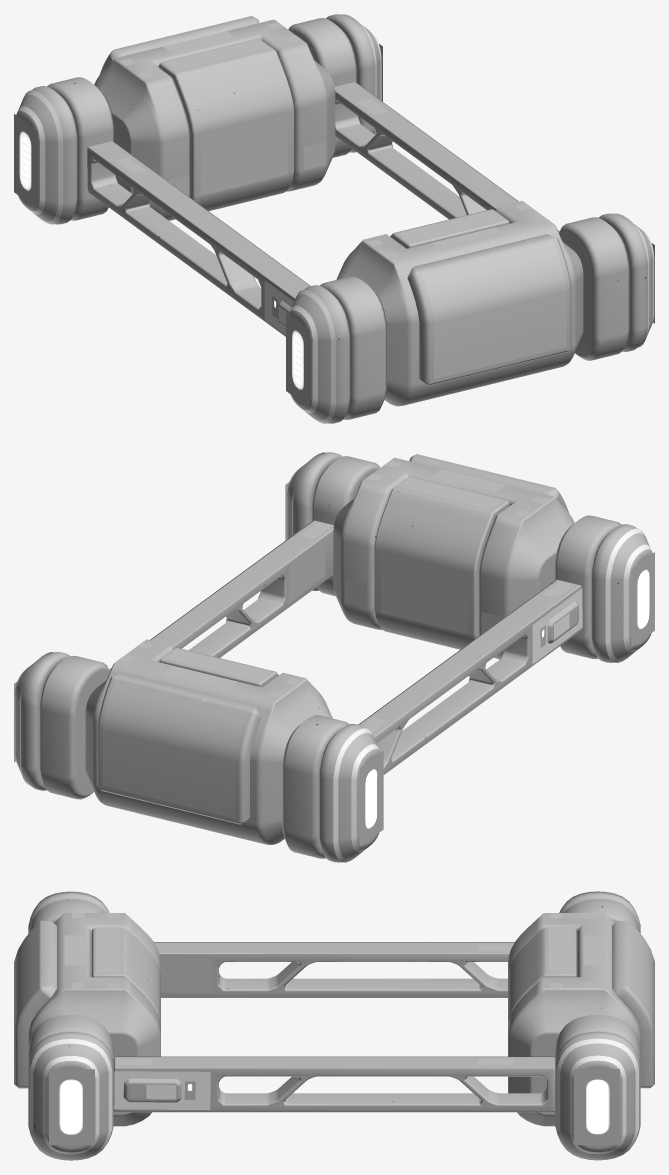
File: SM_RoofConnector_1_Merged.fbx
3 renders of one model, top to bottom at view 1: azimuth 30°, elevation 25°; view 2: azimuth 150°, elevation 25°; view 3: azimuth 270°, elevation 25°, orthographic. The views are drawn at different scales.
Parts seen in each view (by area): view 1: SM_RoofConnector_1_Merged_LOD0; view 2: SM_RoofConnector_1_Merged_LOD0; view 3: SM_RoofConnector_1_Merged_LOD0.
Part boxes in pixels (x1,y1,x2,y2): SM_RoofConnector_1_Merged_LOD0: [14, 14, 654, 423]; SM_RoofConnector_1_Merged_LOD0: [14, 452, 654, 862]; SM_RoofConnector_1_Merged_LOD0: [14, 891, 654, 1160].
Size of the model in its own units: 196 by 326 by 77.32.
